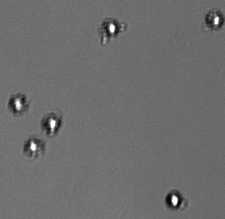Living Cell: (41, 112, 61, 136), (24, 135, 44, 158), (8, 92, 28, 113), (101, 18, 121, 39), (165, 189, 184, 209), (205, 8, 222, 29)
